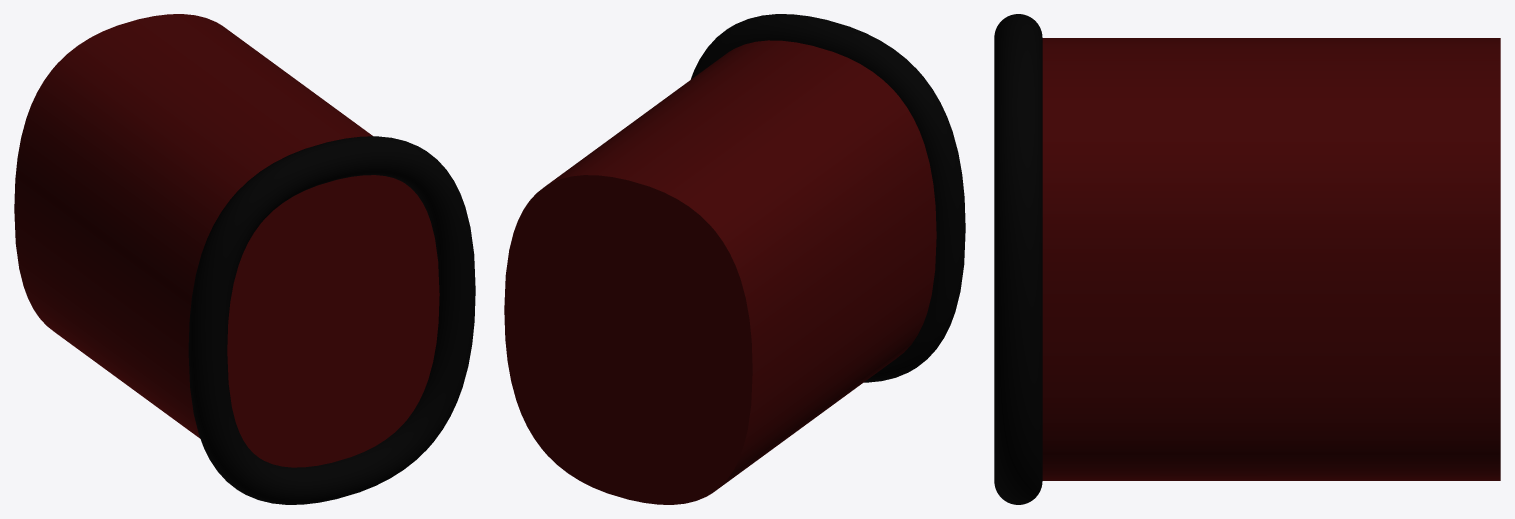
The model's file is surprisedMouth1.dae.
3 renders of one model, left to right at view 1: azimuth 30°, elevation 25°; view 2: azimuth 150°, elevation 25°; view 3: azimuth 270°, elevation 25°, orthographic. The views are drawn at different scales.
Parts seen in each view (by area): view 1: Sweep_NURBS.1; view 2: Sweep_NURBS.1; view 3: Sweep_NURBS.1.
Boxes of the visible parts, left/top/right/bottom form: Sweep_NURBS.1: left=14, top=14, right=475, bottom=504; Sweep_NURBS.1: left=504, top=14, right=965, bottom=504; Sweep_NURBS.1: left=994, top=14, right=1500, bottom=504.
Size of the model in its own units: 16.82 by 20.2 by 21.
